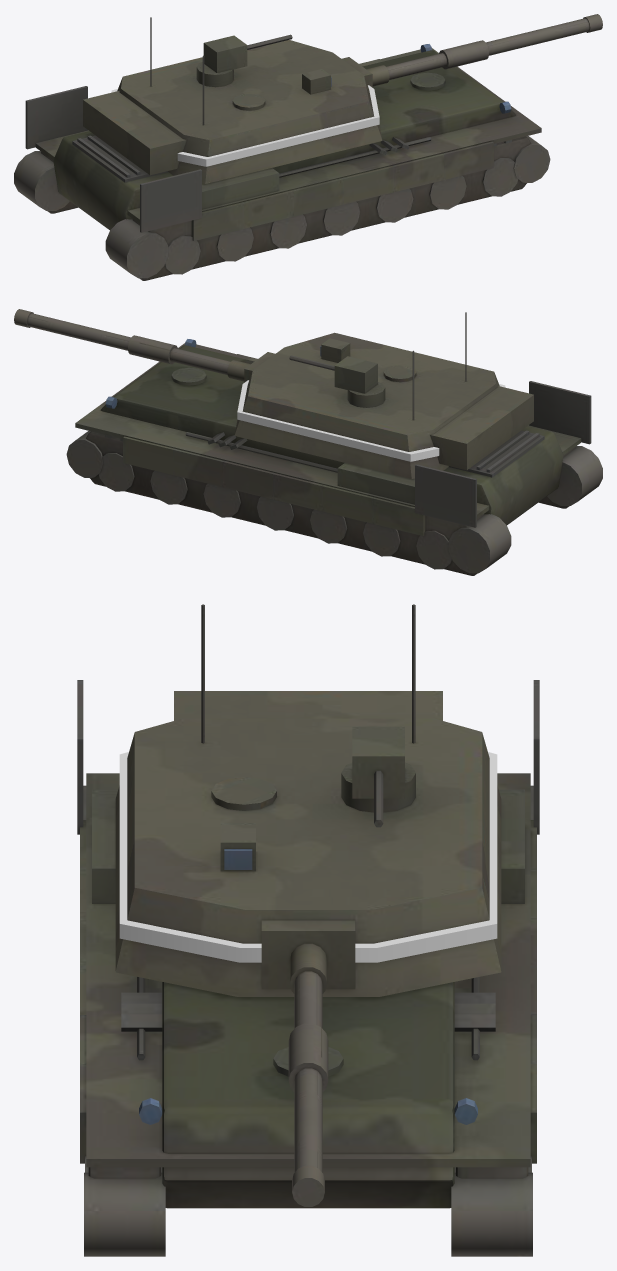
The model's file is abrams.glb.
The picture shows the model from 3 angles, top to bottom: view 1: azimuth 30°, elevation 25°; view 2: azimuth 150°, elevation 25°; view 3: azimuth 270°, elevation 25°; orthographic projection. The views are drawn at different scales.
Visible parts, largest first — view 1: g_abrams_hull, g_abrams_turret, g_abrams_gun; view 2: g_abrams_hull, g_abrams_turret, g_abrams_gun; view 3: g_abrams_hull, g_abrams_turret, g_abrams_gun.
Boxes of the visible parts, x1,y1,x2,y2 form: g_abrams_hull: (14, 44, 550, 280); g_abrams_turret: (83, 17, 382, 183); g_abrams_gun: (366, 14, 602, 86); g_abrams_hull: (66, 339, 602, 575); g_abrams_turret: (234, 312, 533, 478); g_abrams_gun: (14, 309, 250, 381); g_abrams_hull: (77, 680, 539, 1256); g_abrams_turret: (115, 604, 501, 996); g_abrams_gun: (288, 943, 328, 1206).
Bounding box in the file's own units: 10.43 × 3.48 × 3.95.
4 materials, 3 textured.
